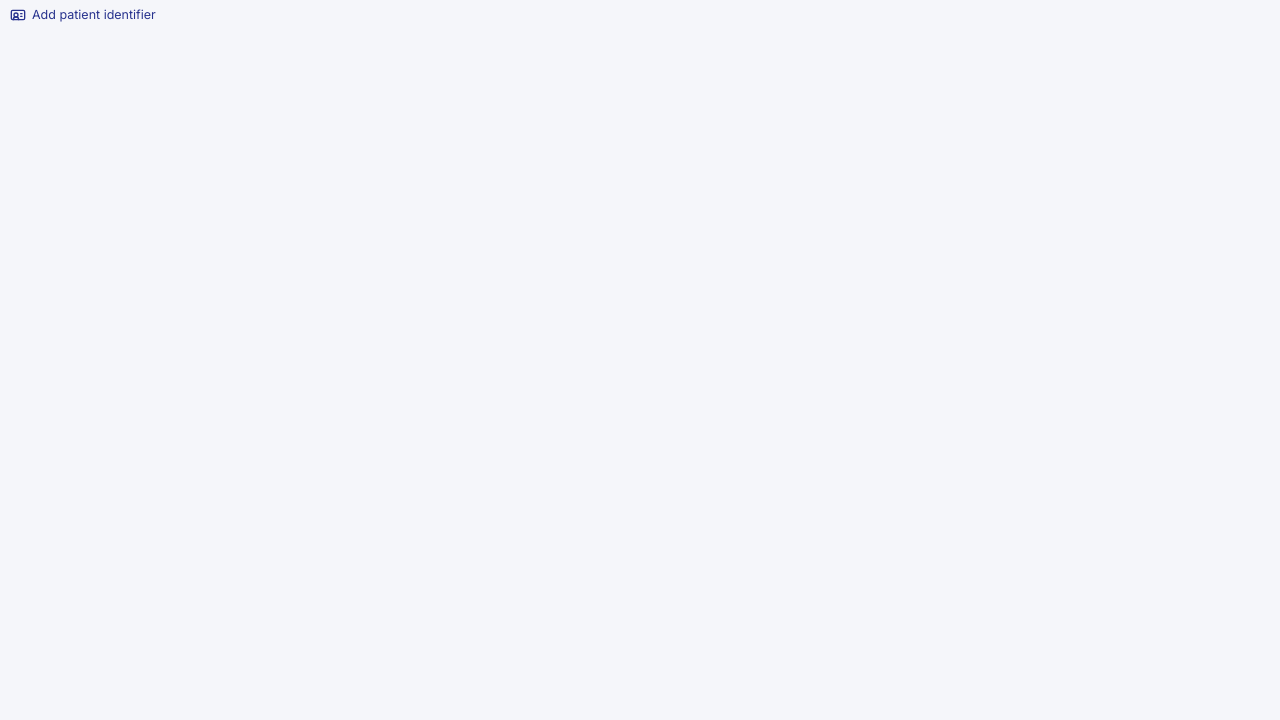
PatientIdentifierEditor — format gates › blocks Save and shows an error for raw SSN
The width and height of the screenshot is (1280, 720).
Click the button "Add patient identifier" at (83, 15), box [0, 0, 166, 31]
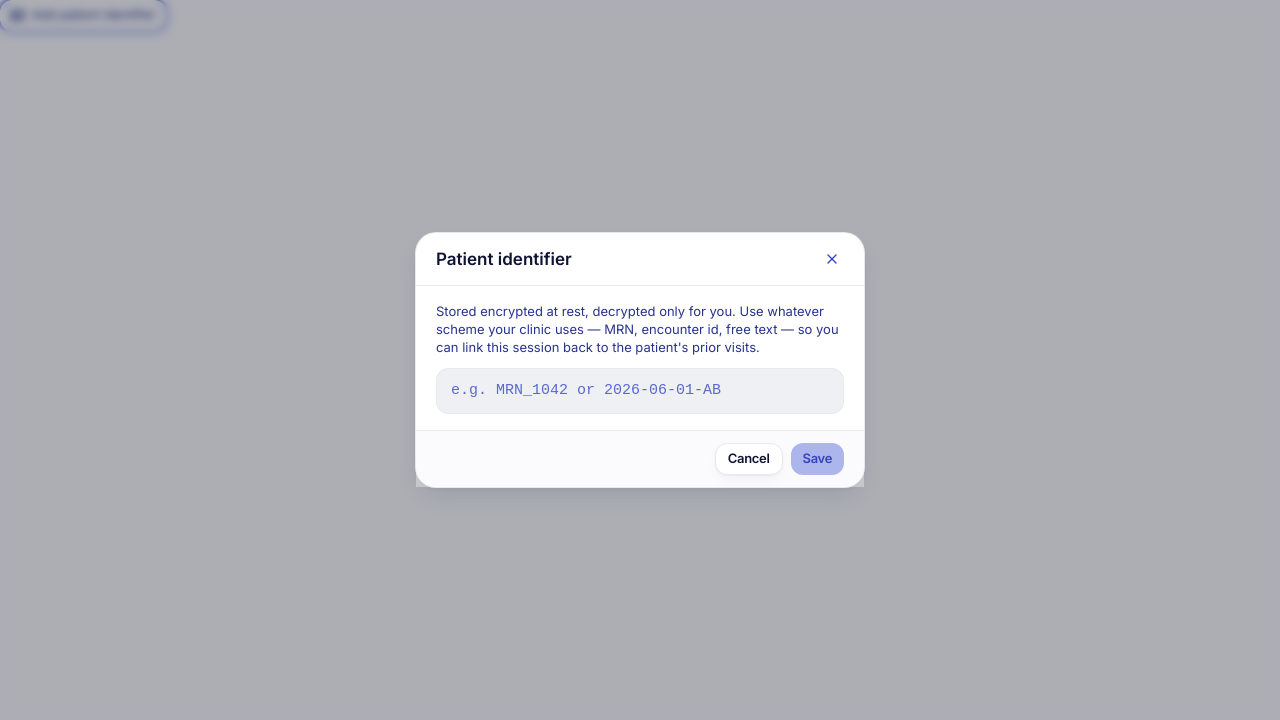
Type "123456789" into the field named "patient identifier value" at (640, 391), box [436, 368, 844, 414]
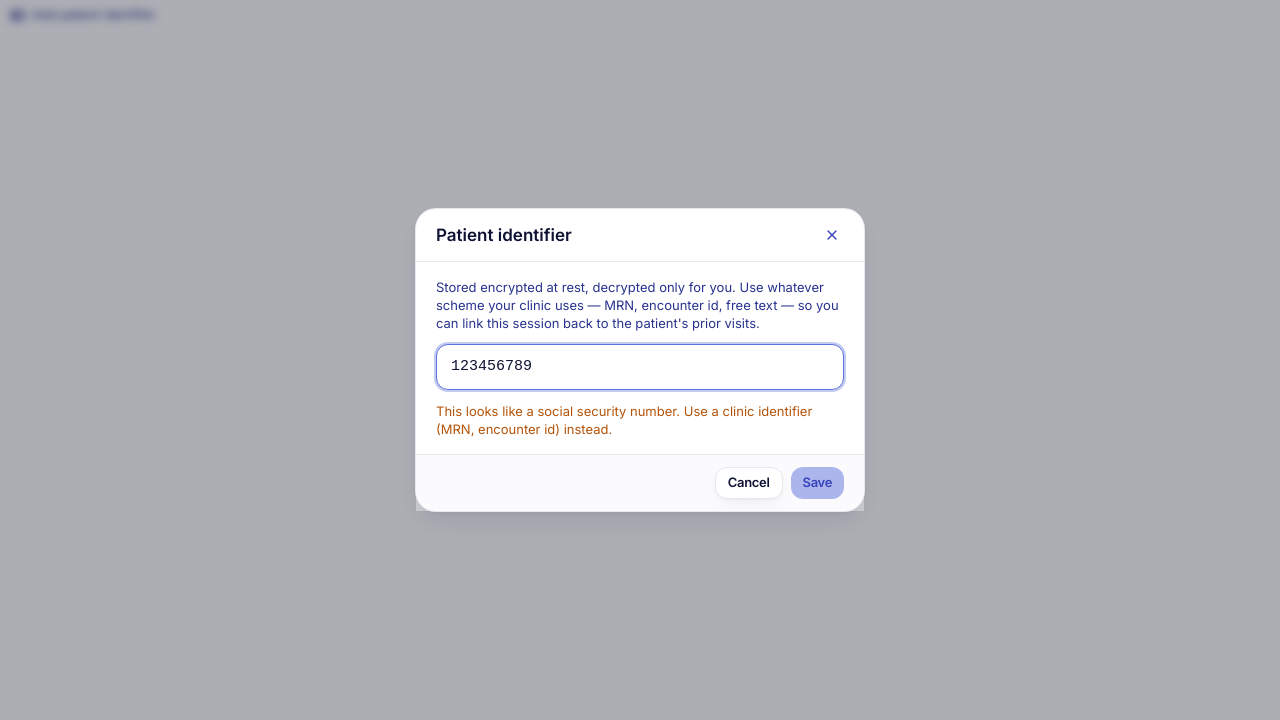
Now the button "Save" is disabled, box [790, 467, 844, 499]
Now the text "social security number" is shown, box [436, 403, 812, 437]
